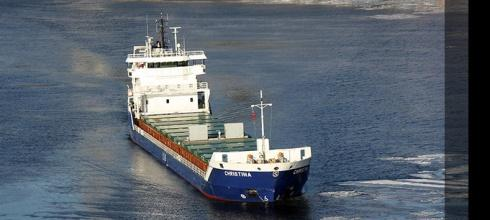Cargoship: (121, 19, 319, 200)
